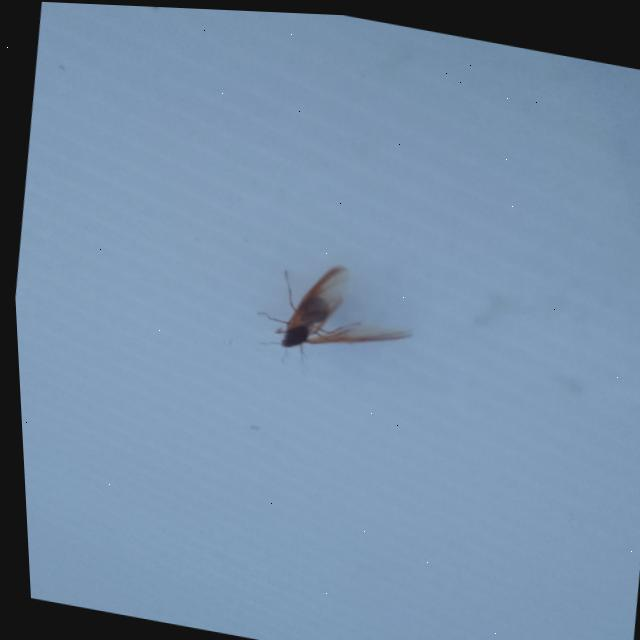Alive-Male-Alate: (245, 247, 423, 384)
